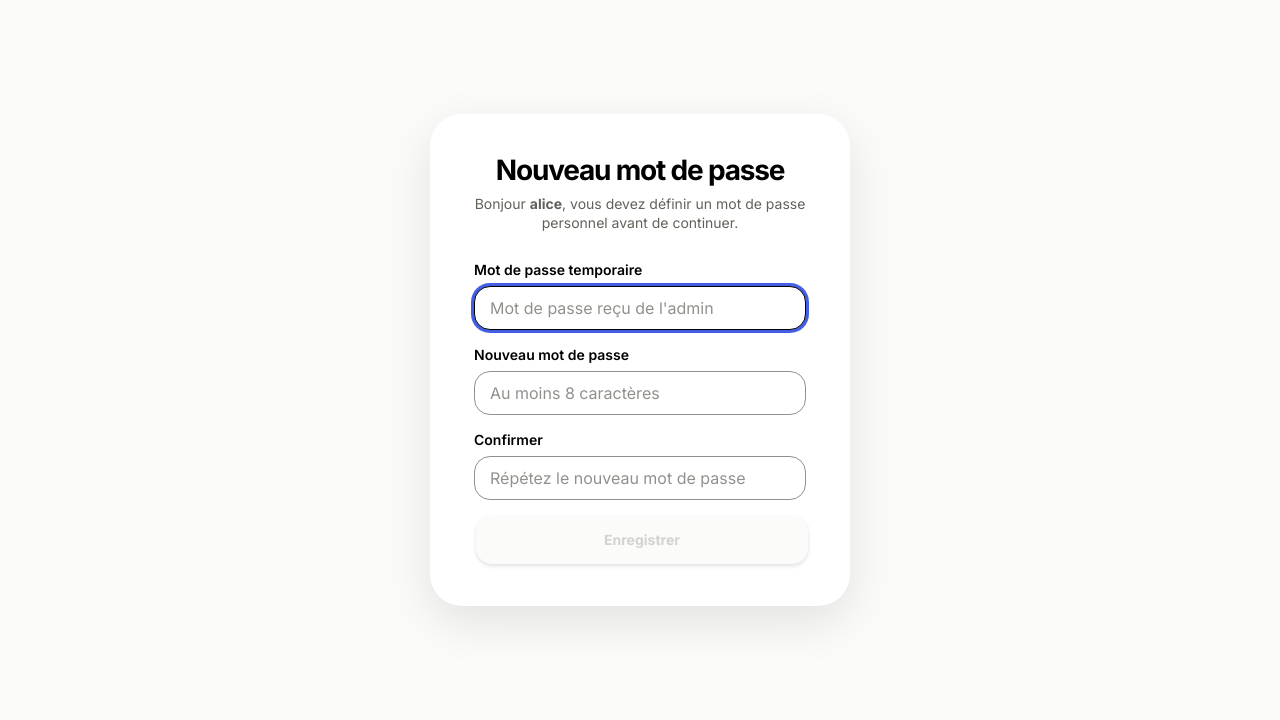
Test: ChangePasswordPage › affiche une erreur si les mots de passe ne correspondent pas
The width and height of the screenshot is (1280, 720).
Type "oldpass" into the password field labelled "Mot de passe temporaire" at (640, 308), box [474, 286, 806, 330]
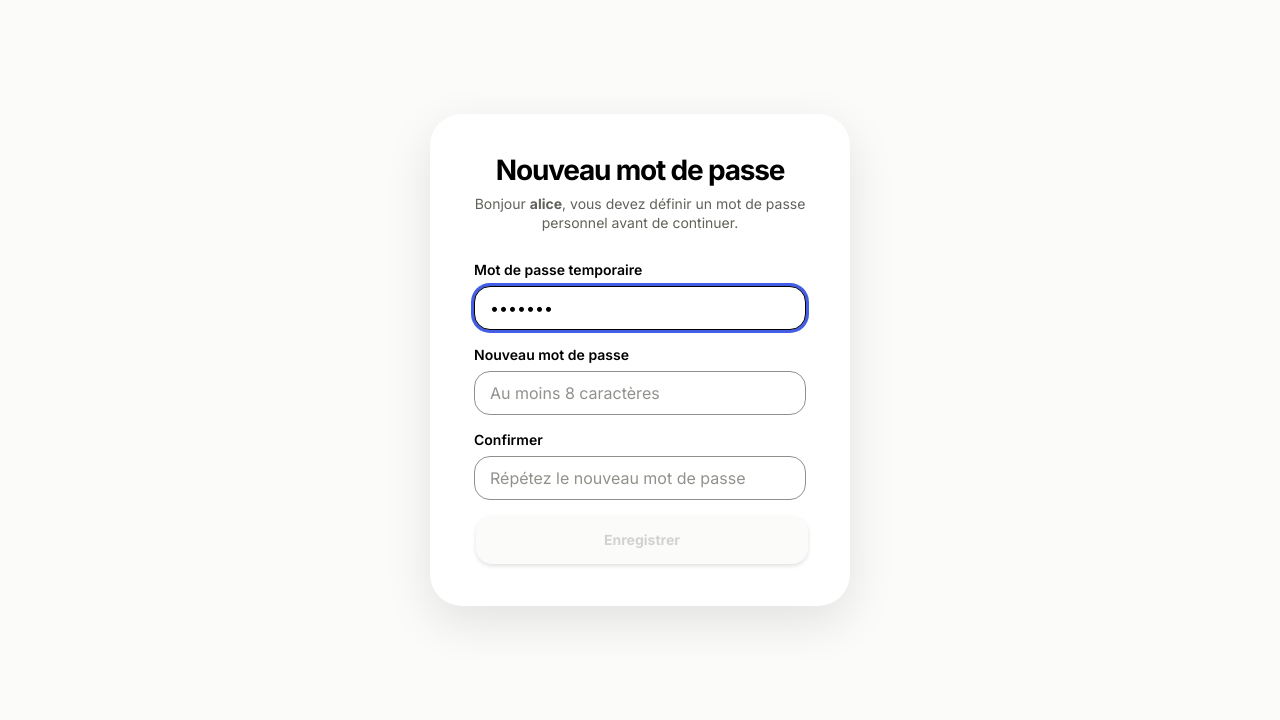
Type "newpass1!" into the password field labelled "Nouveau mot de passe" at (640, 393), box [474, 371, 806, 415]
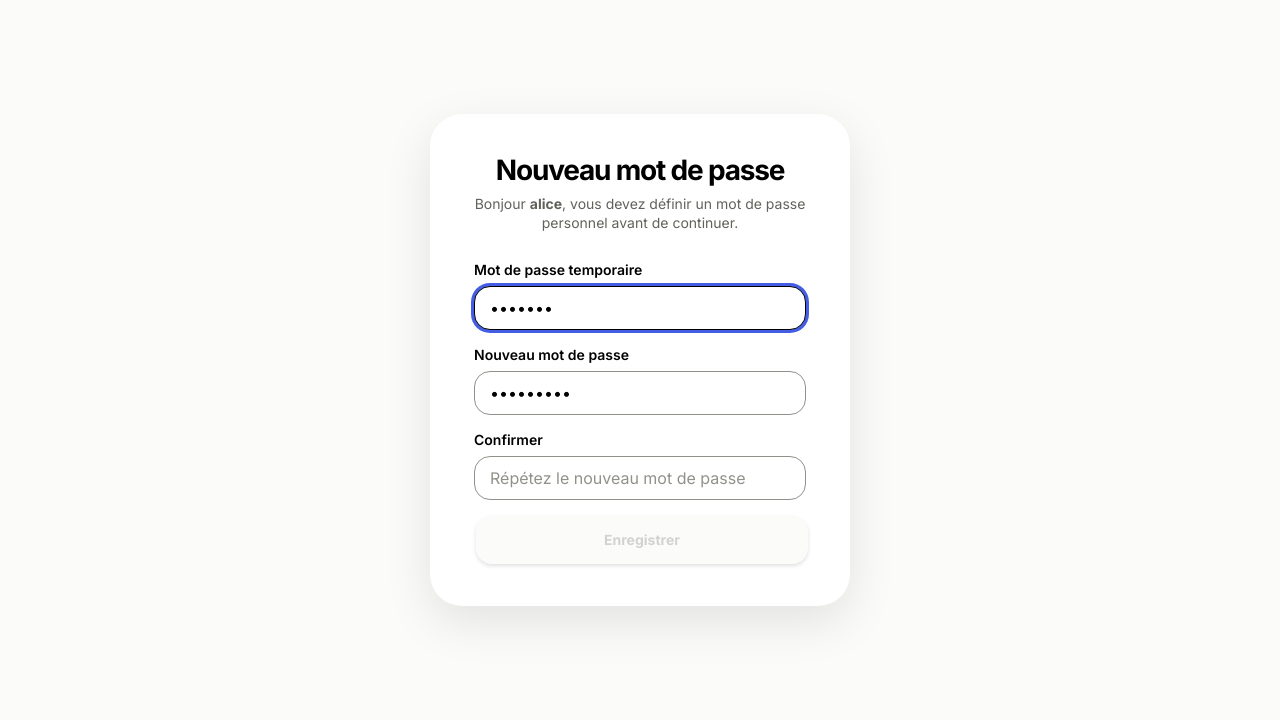
Type "different" into the password field labelled "Confirmer" at (640, 478), box [474, 456, 806, 500]
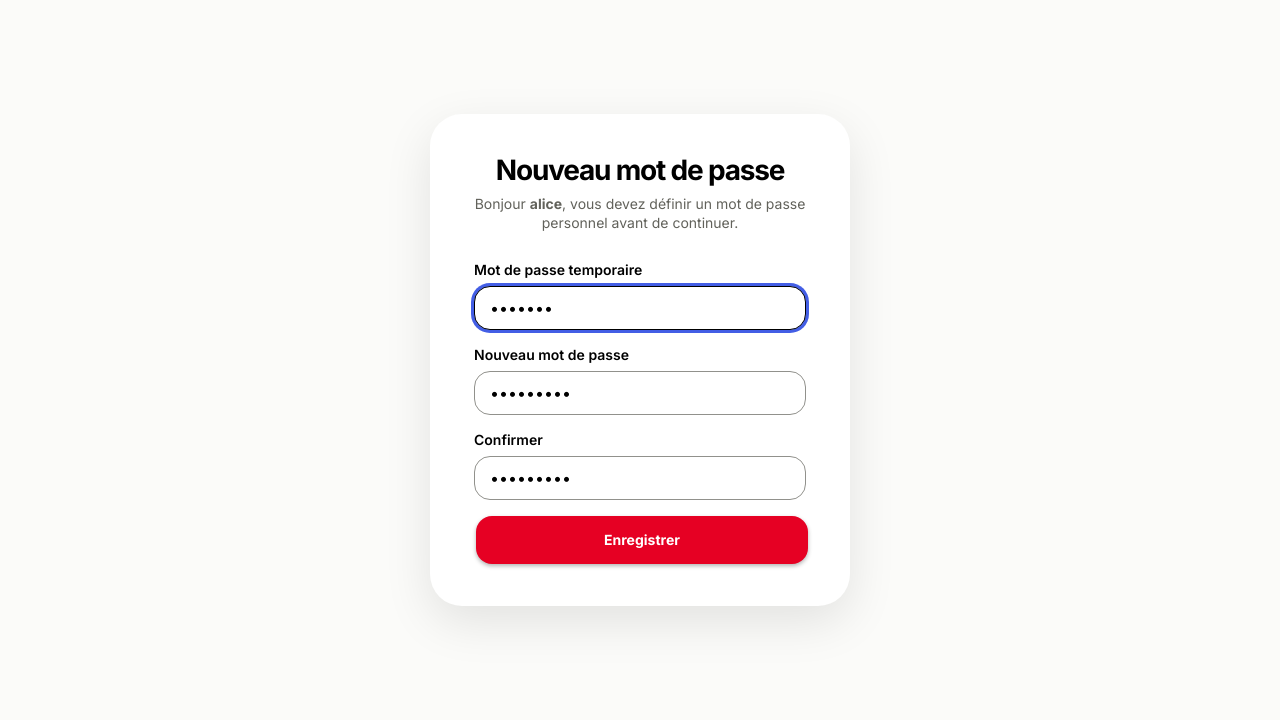
Click the button "Enregistrer" at (642, 540), box [476, 516, 808, 564]
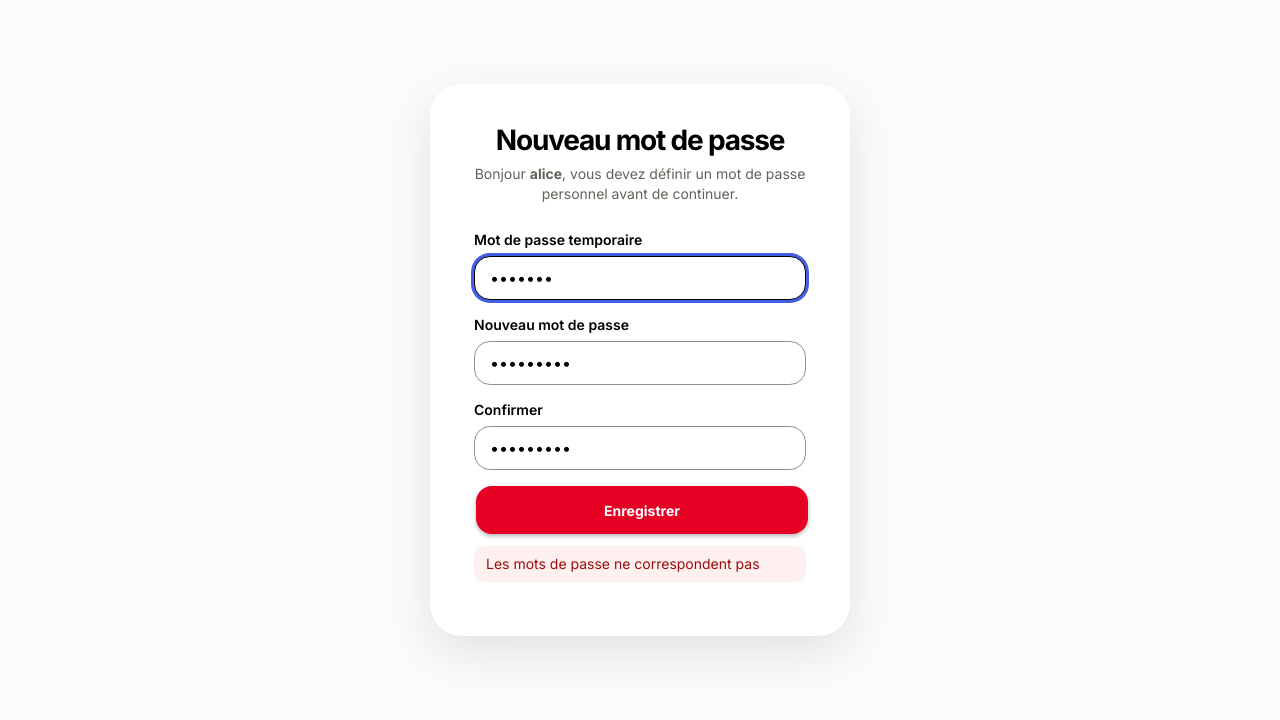
Result: the text "Les mots de passe ne correspondent pas" is shown at [474, 546, 806, 582]
